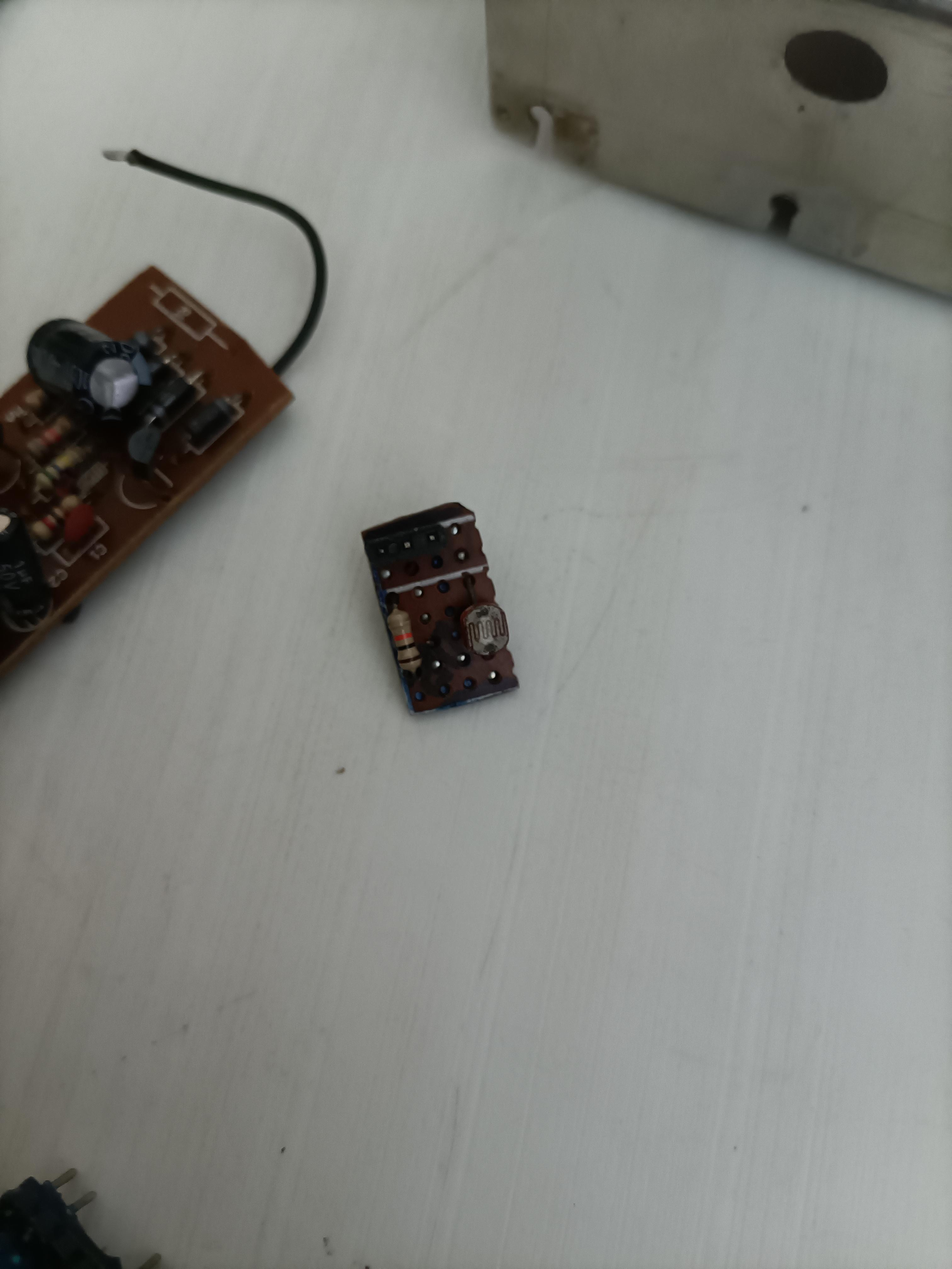Resistencia: (376, 602, 411, 686), (19, 530, 87, 556), (28, 481, 88, 503), (21, 444, 74, 467)
